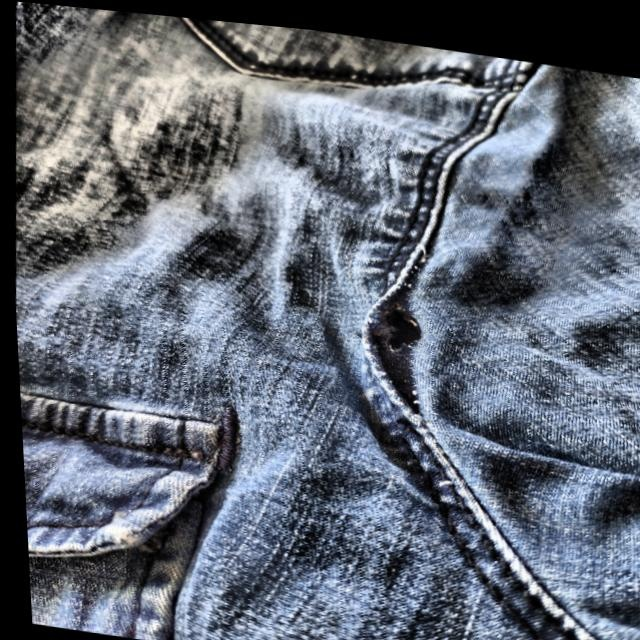seam: (345, 271, 454, 427)
